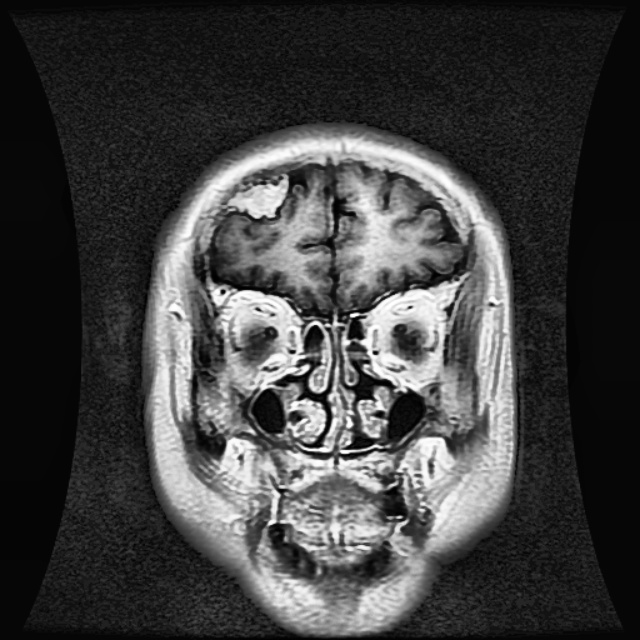Glioma: (228, 175, 289, 218)
